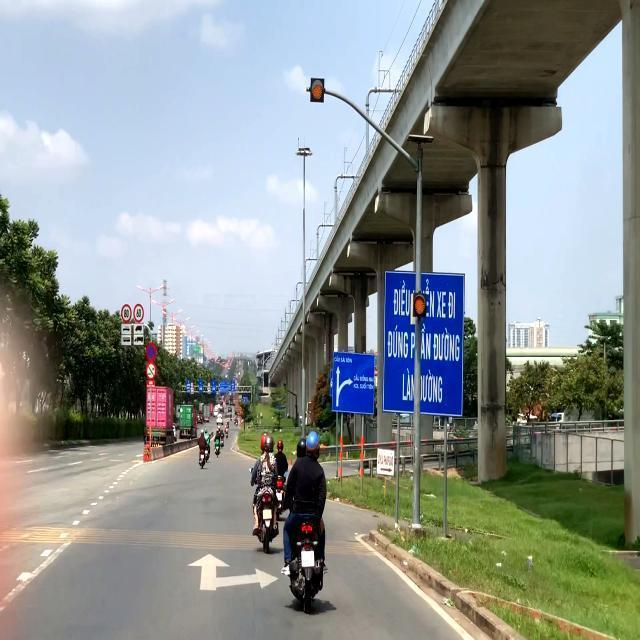127-toc-do-toi-da-60: (132, 303, 144, 321)
127-toc-do-toi-da-80: (120, 304, 132, 322)
131a-cam-do-xe: (145, 343, 159, 363)
